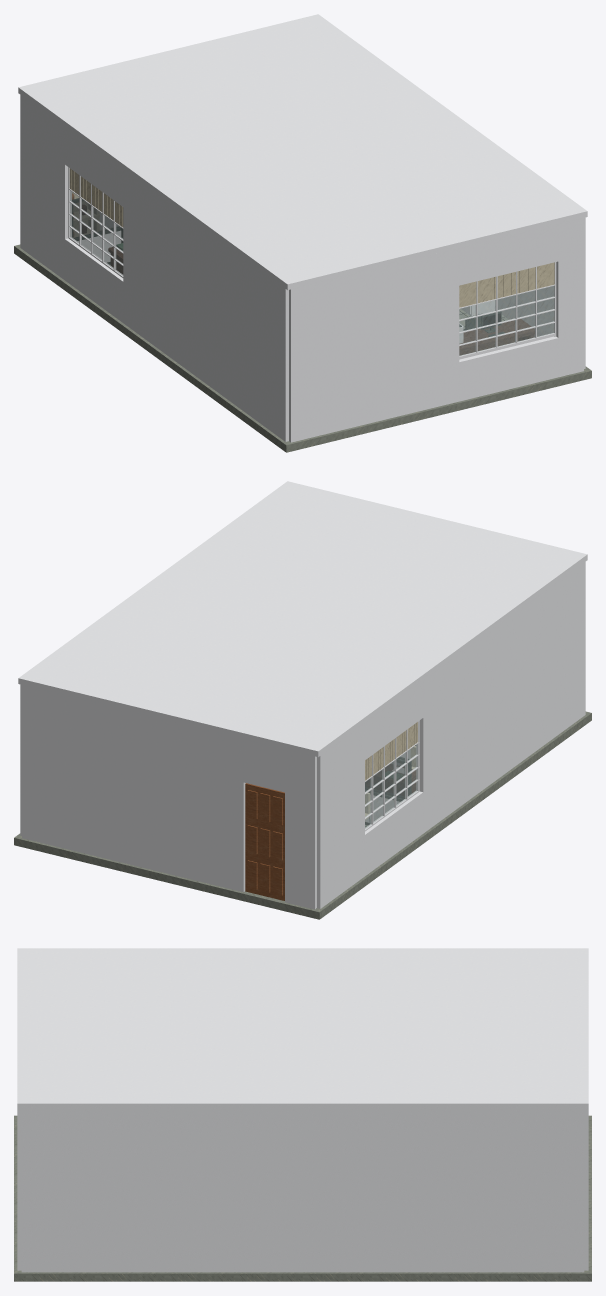
File: Ruangan Dekan.obj
3 renders of one model, top to bottom at view 1: azimuth 30°, elevation 25°; view 2: azimuth 150°, elevation 25°; view 3: azimuth 270°, elevation 25°, orthographic. The views are drawn at different scales.
Parts seen in each view (by area): view 1: 08_Plafon_Balok, 03_Dinding_Belakang, 04_Dinding_Kiri, 06_Jendela_Tirai, 01_Lantai, 05_Dinding_Kanan, Meja_Kerja_Belakang, Sekat_Kantor_1; view 2: 08_Plafon_Balok, 02_Dinding_Depan, 04_Dinding_Kiri, 01_Lantai, 07_Pintu_Masuk, 06_Jendela_Tirai, Sekat_Kantor_1; view 3: 08_Plafon_Balok, 05_Dinding_Kanan, 01_Lantai, 02_Dinding_Depan, 03_Dinding_Belakang.
Part boxes in pixels (<box>): 08_Plafon_Balok: <box>18,14,587,290</box>; 03_Dinding_Belakang: <box>289,218,583,442</box>; 04_Dinding_Kiri: <box>20,95,288,441</box>; 06_Jendela_Tirai: <box>68,167,556,359</box>; 01_Lantai: <box>14,226,591,452</box>; 05_Dinding_Kanan: <box>497,217,585,368</box>; Meja_Kerja_Belakang: <box>459,311,534,355</box>; Sekat_Kantor_1: <box>72,198,121,264</box>; 08_Plafon_Balok: <box>18,481,587,757</box>; 02_Dinding_Depan: <box>22,685,316,909</box>; 04_Dinding_Kiri: <box>317,562,585,908</box>; 01_Lantai: <box>14,711,591,919</box>; 07_Pintu_Masuk: <box>245,783,284,900</box>; 06_Jendela_Tirai: <box>365,720,419,831</box>; Sekat_Kantor_1: <box>365,758,409,825</box>; 08_Plafon_Balok: <box>17,948,588,1109</box>; 05_Dinding_Kanan: <box>21,1109,584,1272</box>; 01_Lantai: <box>14,1115,591,1281</box>; 02_Dinding_Depan: <box>584,1109,588,1270</box>; 03_Dinding_Belakang: <box>17,1109,21,1270</box>.
Bounding box in the file's own units: 7.72 × 4.02 × 11.92.
Materials: 20 (20 with a texture image).
